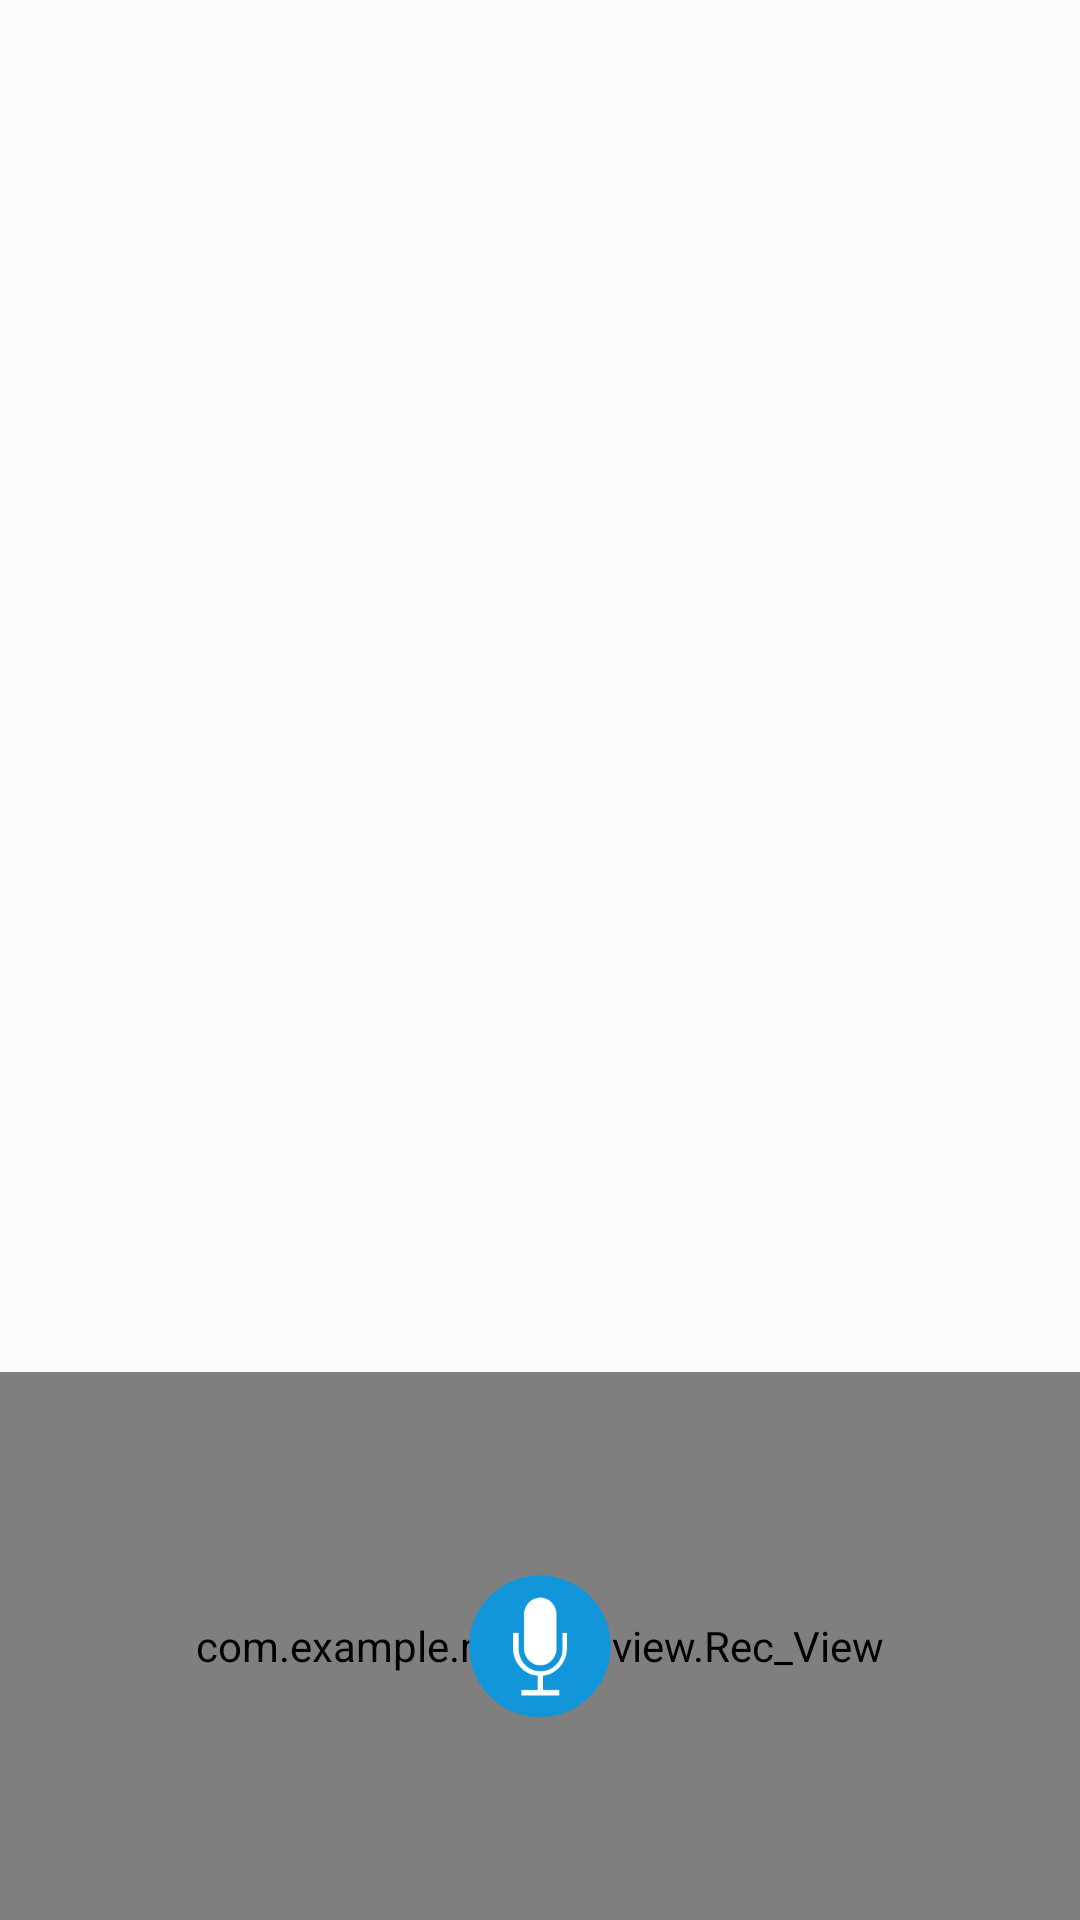

Named icons in this screenshot (1080x1920) and their centers, (x,y):
layer mengban rec: (538,1646)
